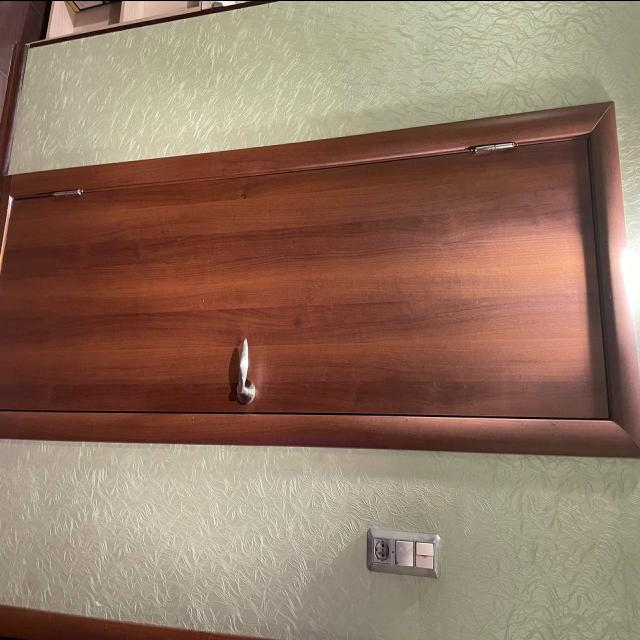close: (0, 120, 601, 447)
